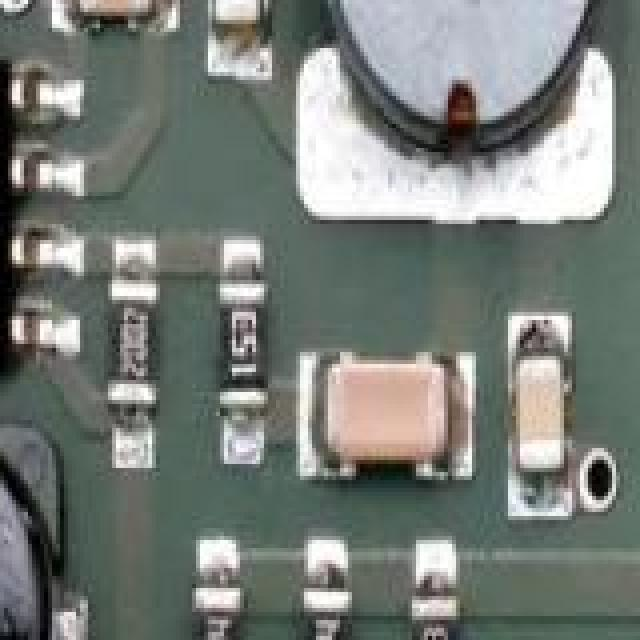IC: (0, 56, 36, 368)
capacitor: (304, 352, 476, 480), (0, 424, 68, 640), (504, 316, 576, 514), (204, 0, 264, 56), (76, 0, 160, 20)
inductor: (312, 0, 604, 232)
resistor: (212, 268, 264, 400), (112, 272, 160, 410), (180, 572, 244, 640), (412, 572, 464, 640), (296, 584, 356, 640)
